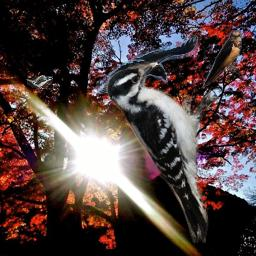Crow: (96, 35, 198, 94)
Swallow: (203, 30, 242, 88), (26, 75, 53, 89)
Woodpecker: (106, 63, 220, 243)
